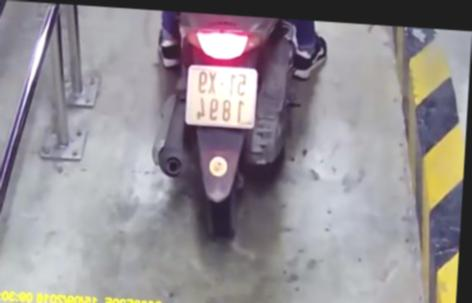License_Plate: (179, 59, 264, 132)
